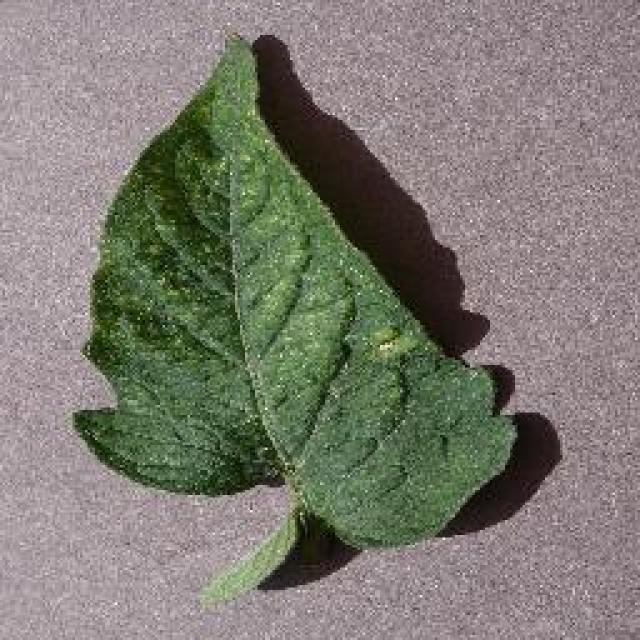Tomato___Spider_mites Two-spotted_spider_mite: (72, 38, 515, 600)
